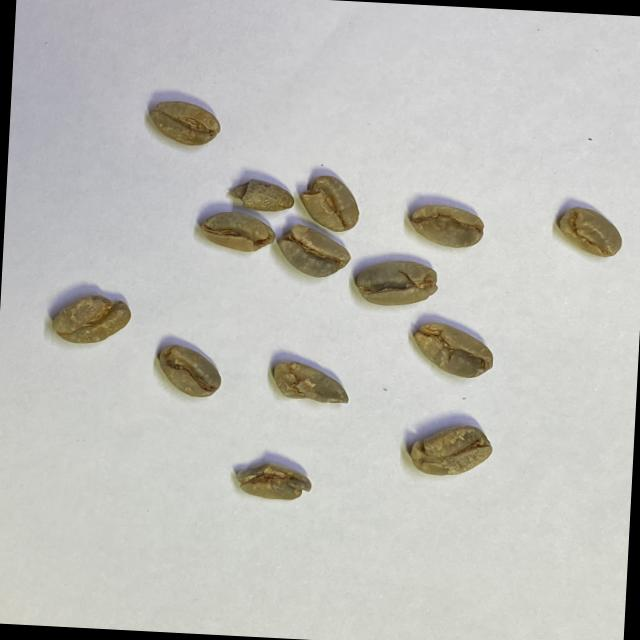bad: (406, 420, 496, 480), (410, 320, 498, 381), (50, 292, 134, 348), (274, 222, 354, 280), (354, 258, 442, 310), (153, 341, 224, 401), (407, 202, 487, 252), (554, 204, 624, 260), (298, 173, 362, 234), (270, 358, 351, 406), (148, 98, 223, 148), (233, 459, 314, 504), (199, 209, 278, 255), (228, 177, 296, 214)
